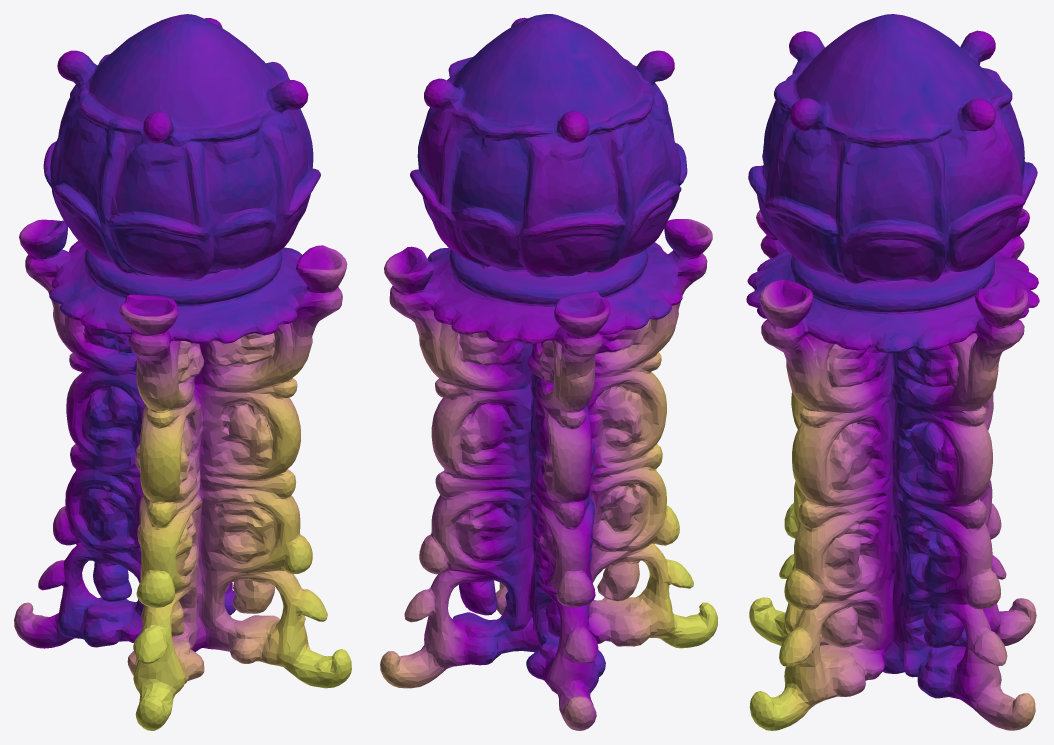
The model's file is iter_2.glb.
The picture shows the model from 3 angles, left to right: view 1: azimuth 30°, elevation 25°; view 2: azimuth 150°, elevation 25°; view 3: azimuth 270°, elevation 25°; orthographic projection. The views are drawn at different scales.
Parts seen in each view (by area): view 1: textured_mesh; view 2: textured_mesh; view 3: textured_mesh.
Boxes of the visible parts, box(x1,y1,x2,y2) form: textured_mesh: box(14, 14, 351, 730); textured_mesh: box(380, 14, 717, 730); textured_mesh: box(746, 14, 1039, 730).
Size of the model in its own units: 0.7796 by 1.99 by 0.7926.
